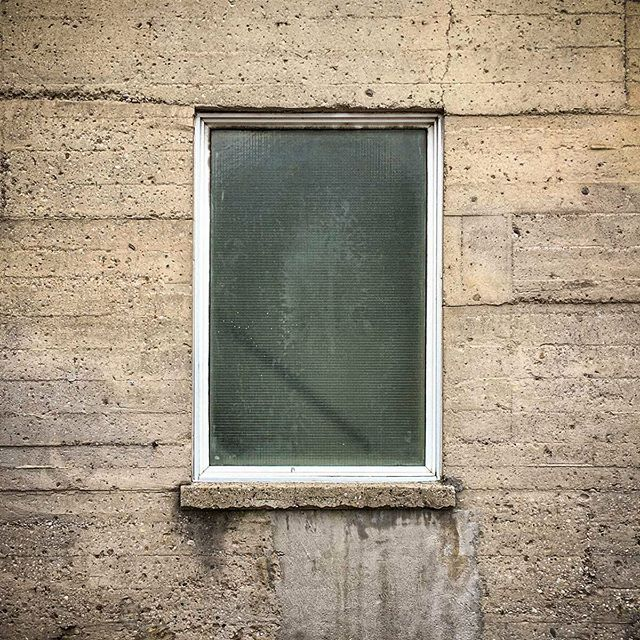window: (191, 111, 444, 482)
